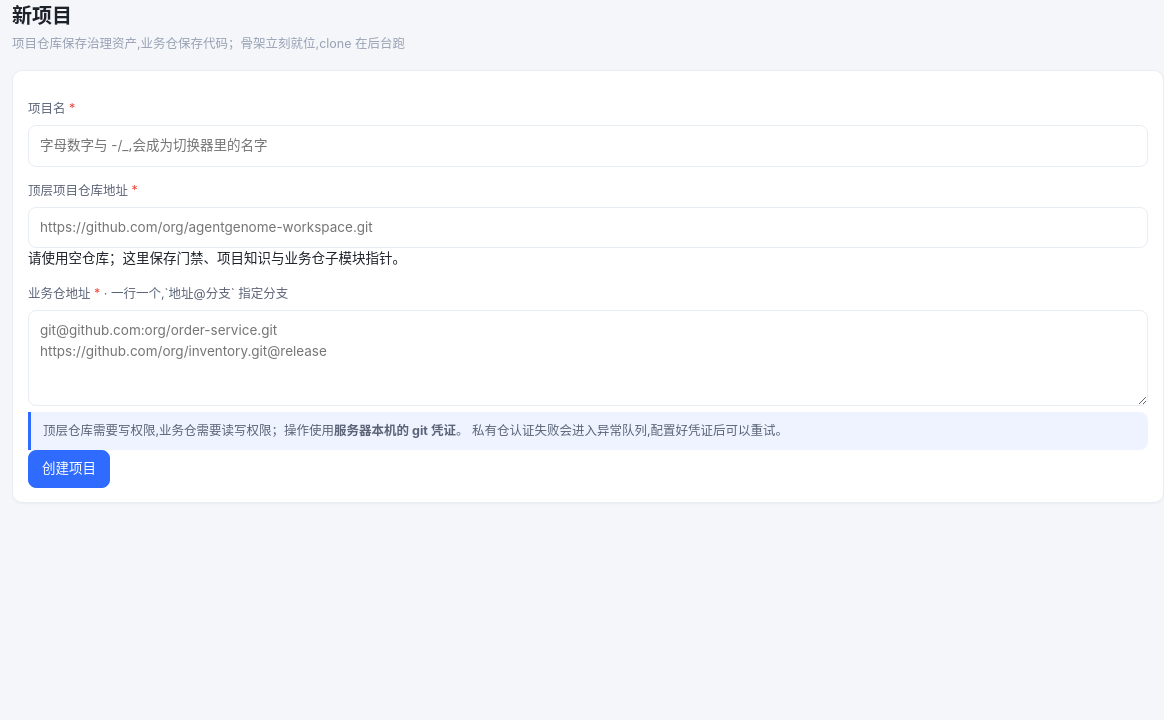
Test: ProjectSetup › shows the backend's refusal verbatim (重名/名字不合法)
Type "shop" into the field with placeholder "字母数字与 -/_,会成为切换器里的名字".
click(588, 146); type("shop")  # box [28,125,1148,167]
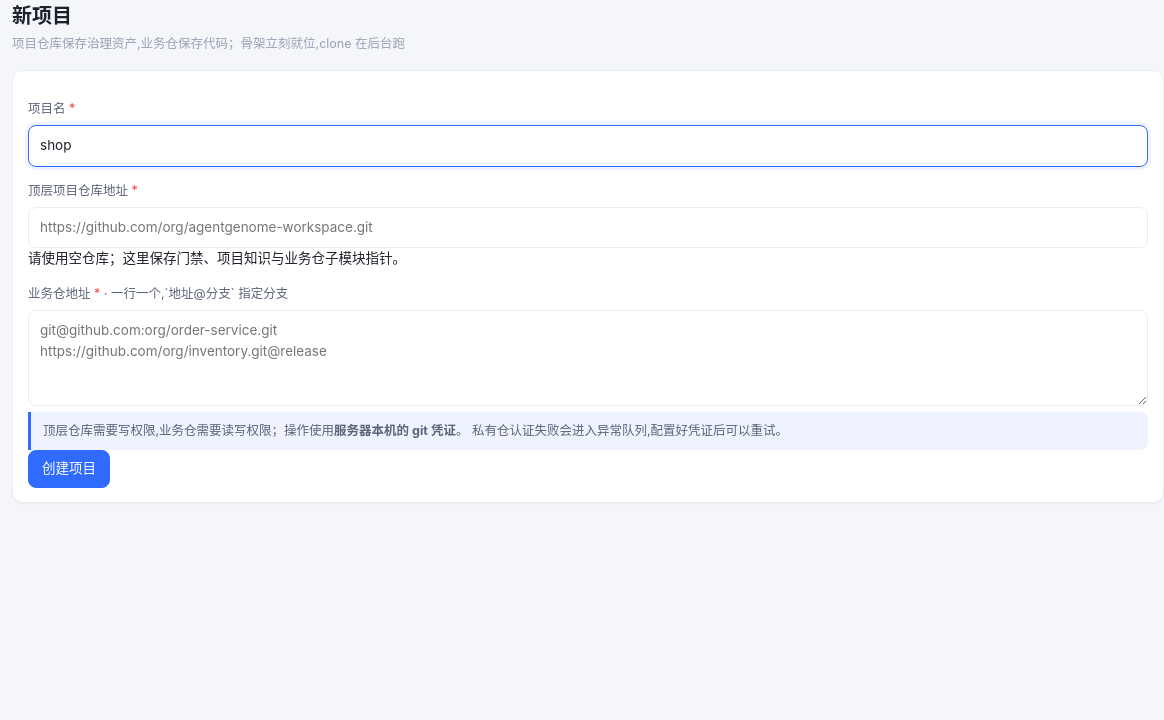
Type "https://github.com/acme/shop-workspace.git" into the field with placeholder "https://github.com/org/agentgenome-workspace.git".
click(588, 227); type("https://github.com/acme/shop-workspace.git")  # box [28,207,1148,248]
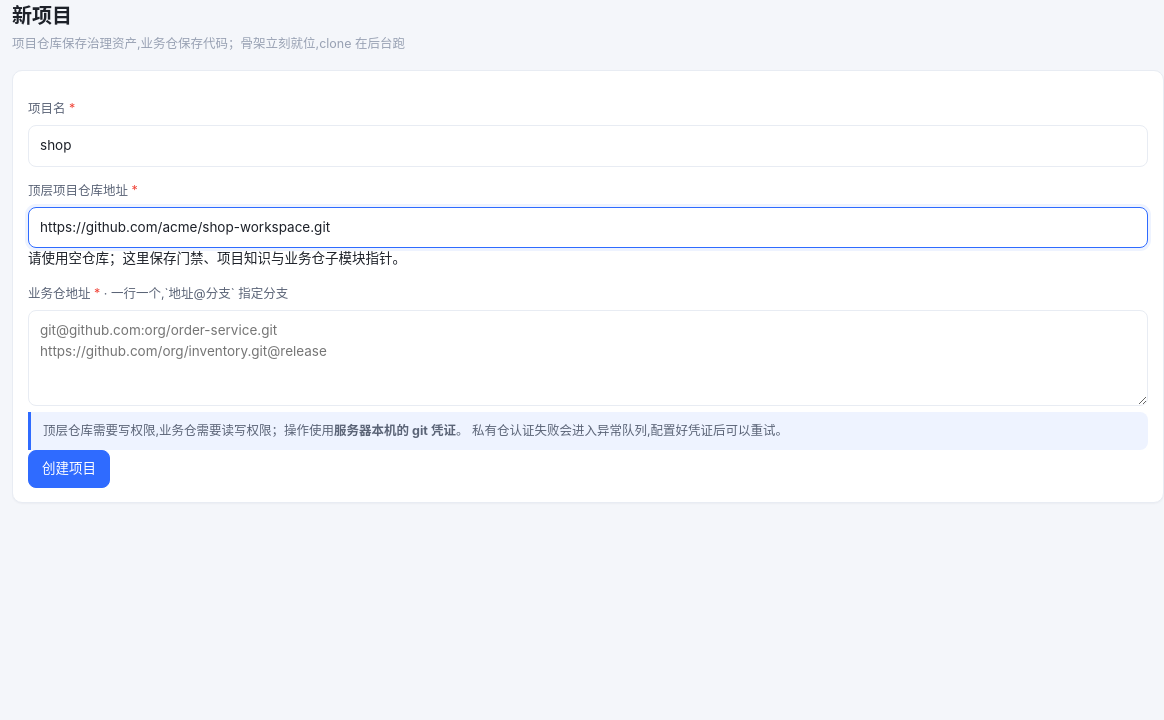
Type "a.git" into the text box with placeholder "order-service".
click(588, 358); type("a.git")  # box [28,310,1148,406]
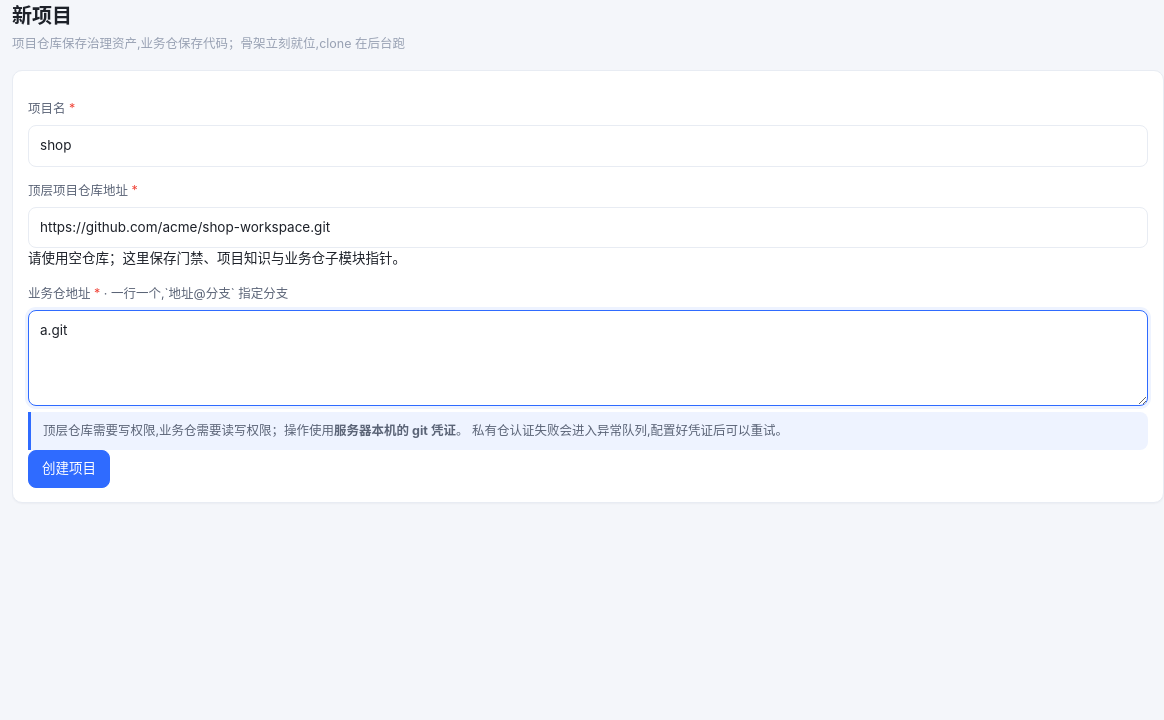
Click the button "创建项目".
click(69, 469)  # box [28,450,110,488]
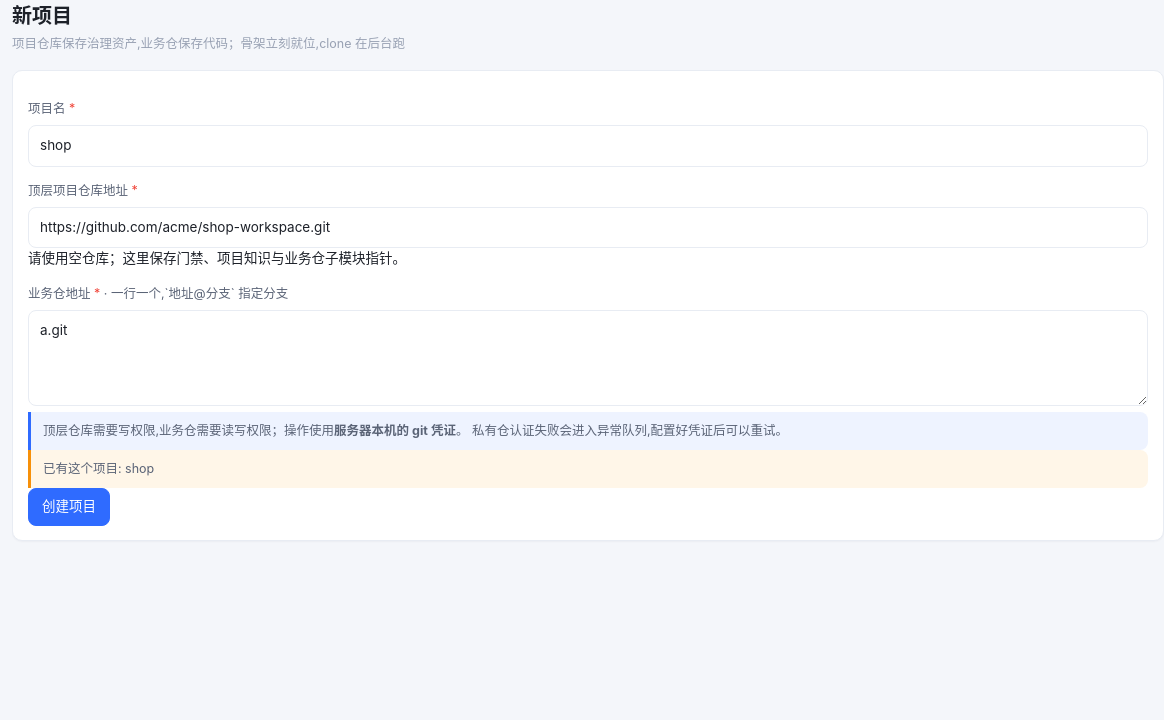
Now the text "已有这个项目: shop" is shown, box [28,450,1148,488]
